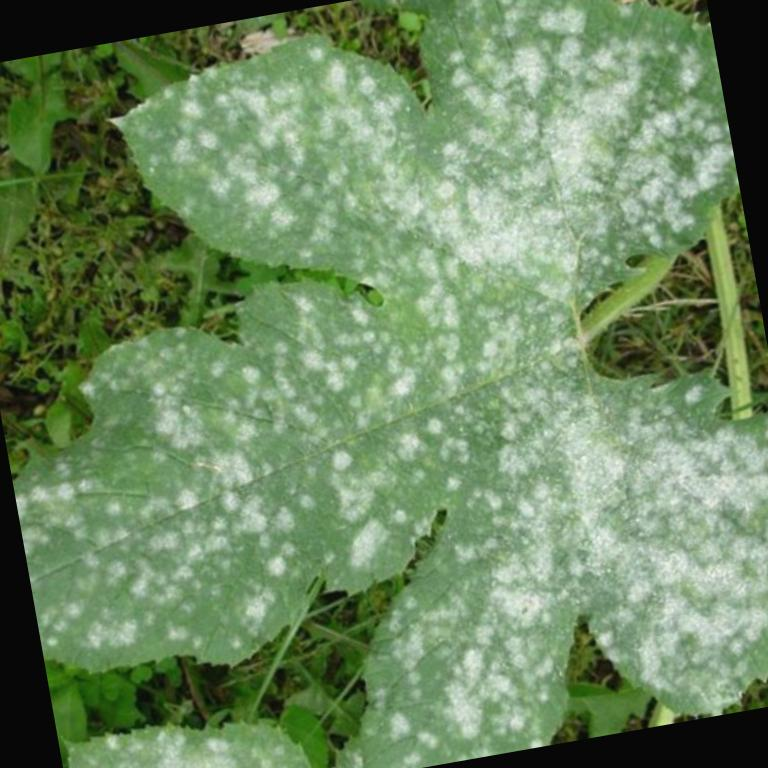powdery-mildew: (206, 312, 502, 532), (446, 38, 670, 267), (600, 455, 768, 662), (219, 68, 393, 244), (402, 525, 566, 709)
